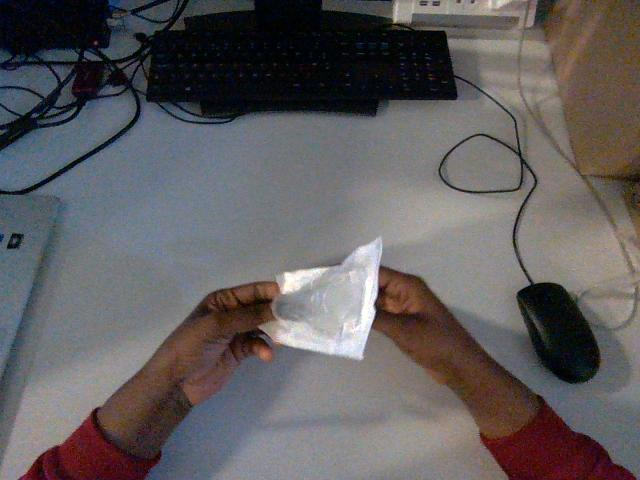syringe: (260, 238, 381, 359)
